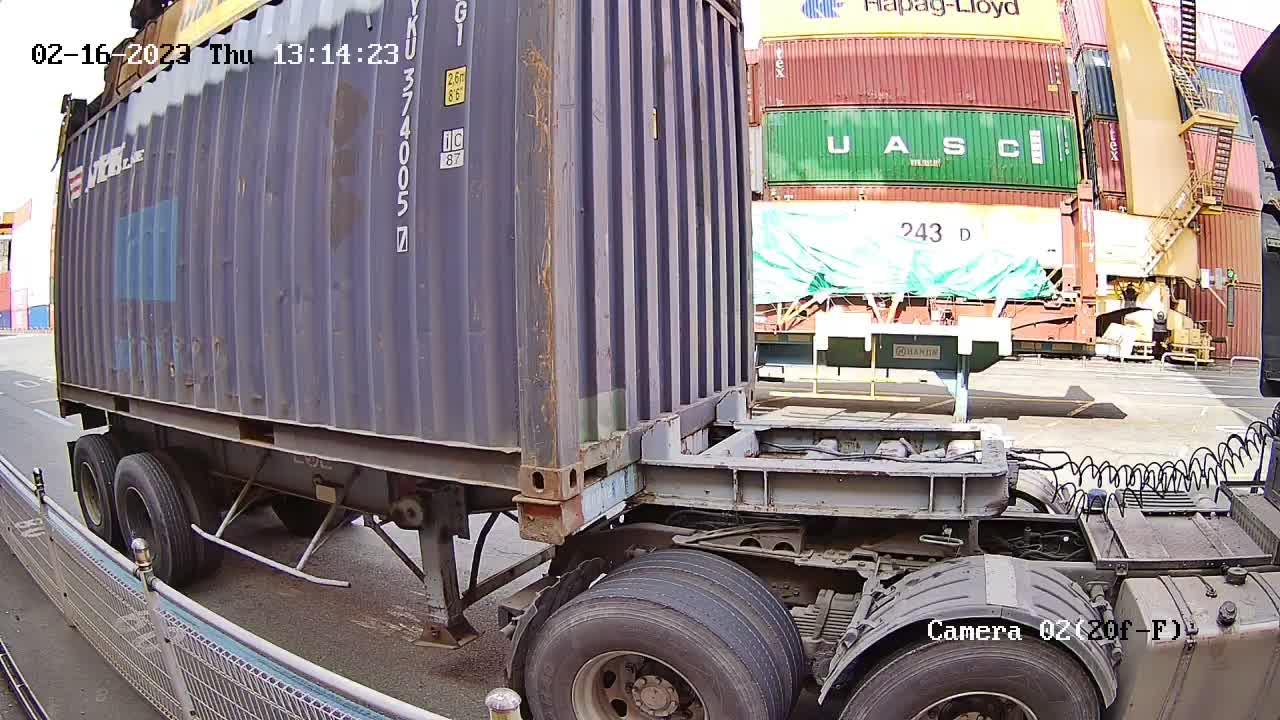Chassis: (520, 410, 752, 542)
Cone: (519, 500, 562, 543)
Hole_L: (557, 417, 610, 496)
Hole_R: (470, 424, 557, 501), (736, 370, 758, 408)
Tire: (523, 599, 765, 719), (845, 633, 1100, 719), (113, 461, 170, 578), (73, 442, 110, 539)
